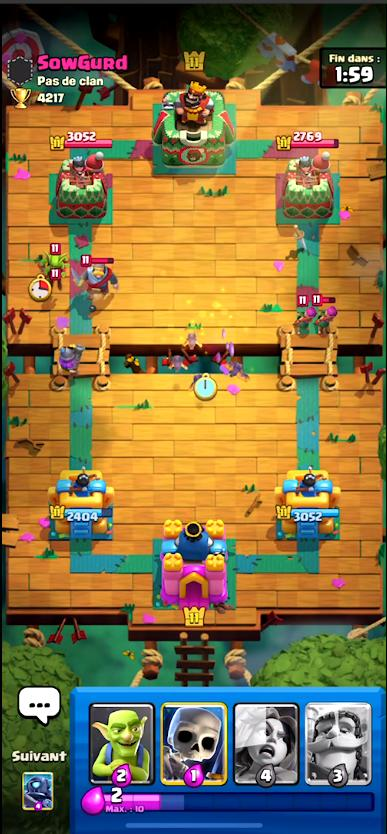archere: (313, 291, 340, 330), (295, 293, 314, 329)
bat: (219, 355, 248, 383), (184, 332, 201, 353)
chevalier: (80, 258, 124, 302)
gobelin: (45, 247, 66, 274)
mousquetaire: (59, 339, 86, 380)
